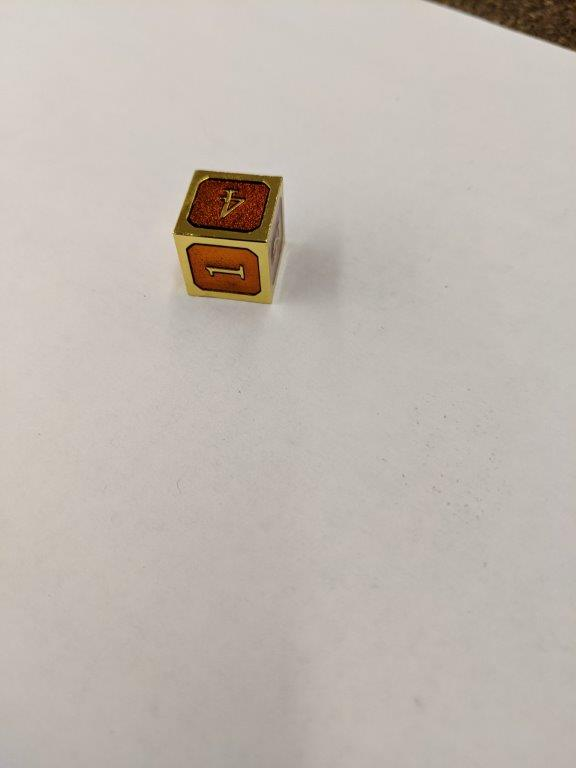d6-4: (171, 167, 290, 309)
